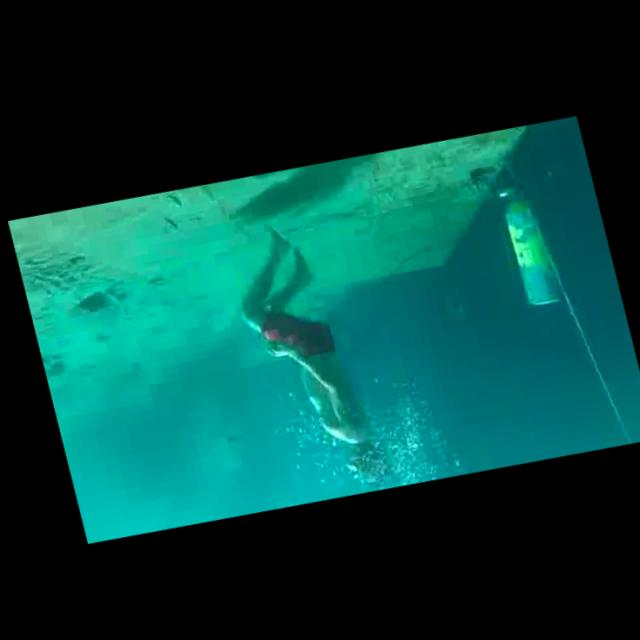human: (216, 205, 397, 502)
